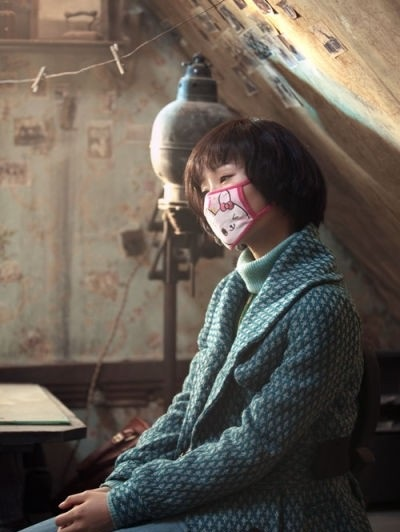face_mask: (198, 154, 255, 245)
